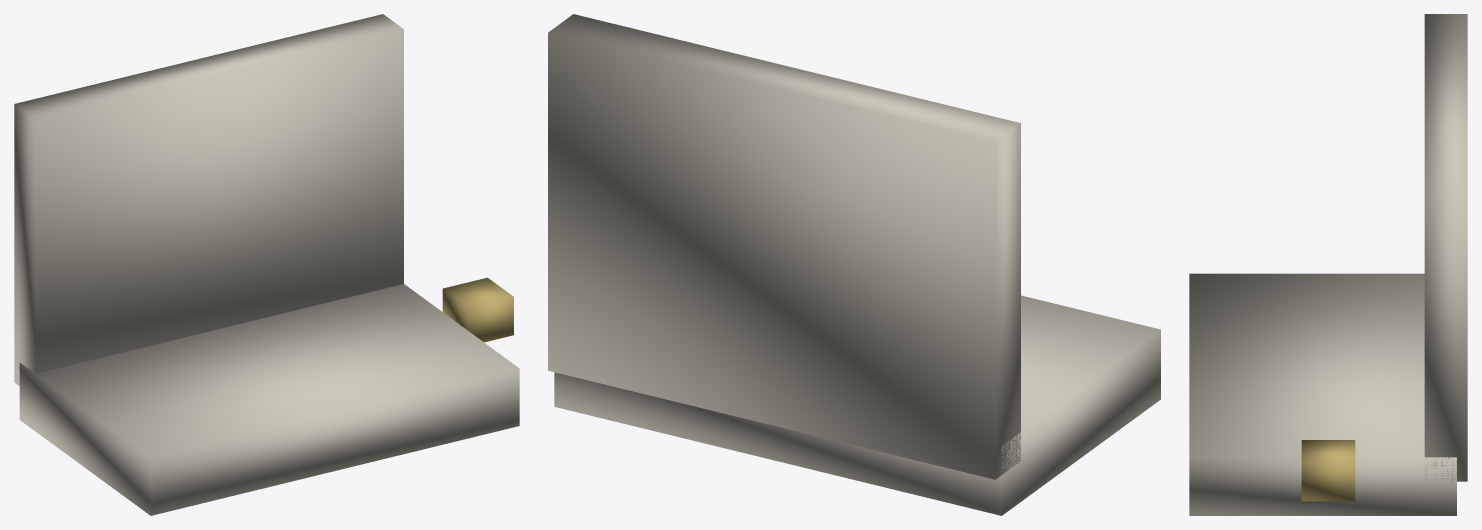
The model's file is baby_change_14.glb.
3 renders of one model, left to right at view 1: azimuth 30°, elevation 25°; view 2: azimuth 150°, elevation 25°; view 3: azimuth 270°, elevation 25°, orthographic. The views are drawn at different scales.
Visible parts, largest first — view 1: world; view 2: world; view 3: world.
Part boxes in pixels (x1,y1,x2,y2): world: (14, 14, 519, 515); world: (548, 14, 1160, 515); world: (1189, 14, 1467, 515).
Bounding box in the file's own units: 0.8928 × 0.637 × 0.5044.
